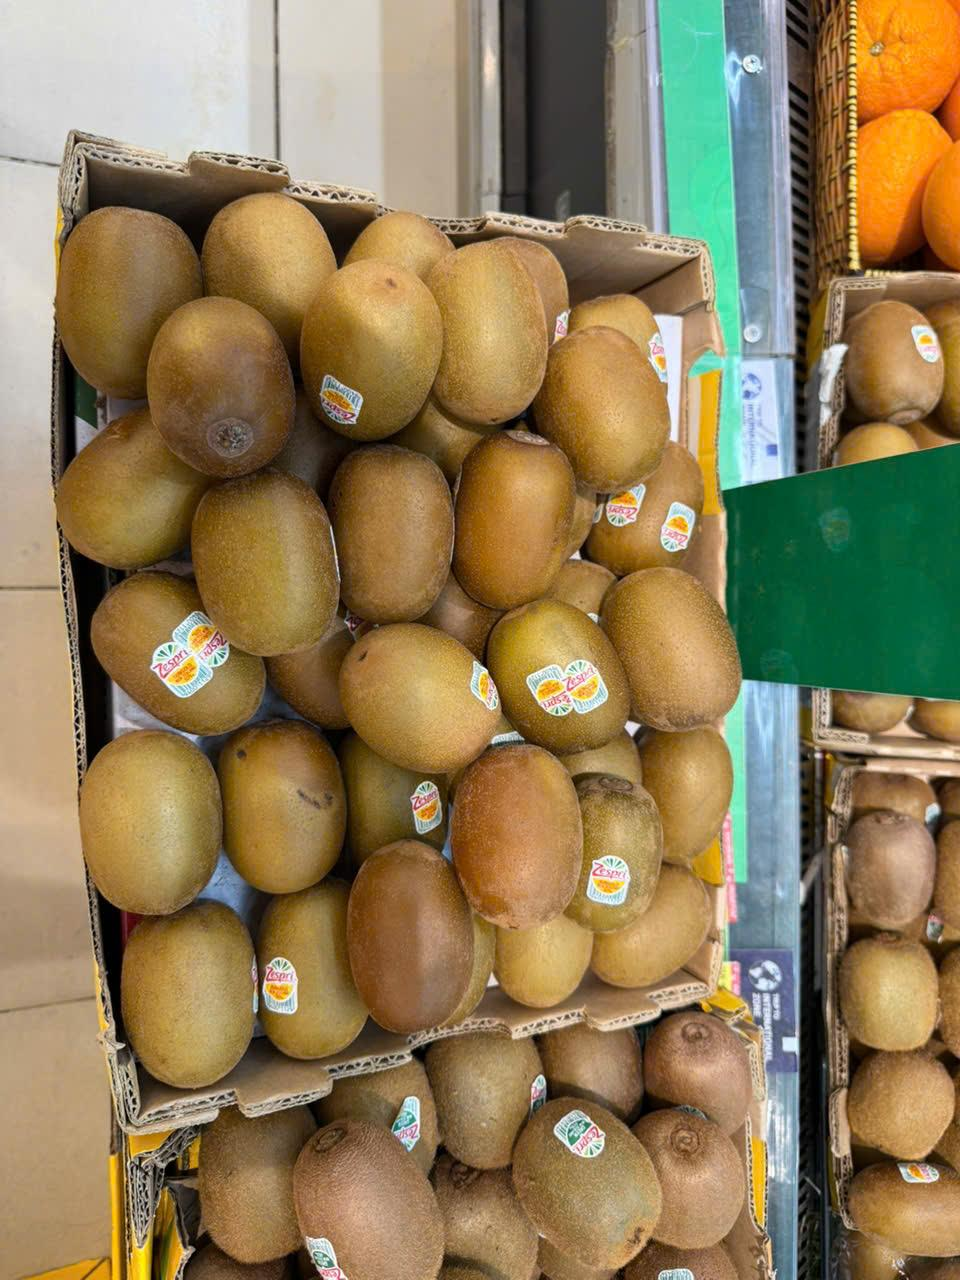kiwi: (83, 578, 283, 748), (179, 461, 346, 654), (140, 283, 302, 478), (85, 716, 232, 916), (57, 198, 202, 396), (348, 841, 484, 1044), (110, 903, 258, 1090), (453, 728, 590, 926), (510, 1089, 657, 1270), (292, 1126, 456, 1280), (340, 618, 504, 770), (605, 569, 755, 732), (442, 220, 550, 445), (454, 425, 572, 622), (328, 443, 464, 614), (490, 586, 625, 740), (319, 255, 438, 425), (61, 420, 192, 567), (260, 891, 374, 1050), (235, 736, 348, 888), (203, 188, 338, 311), (555, 347, 668, 486), (624, 732, 736, 864), (642, 1106, 743, 1242), (590, 753, 664, 928), (440, 1028, 533, 1160), (584, 481, 700, 586)
